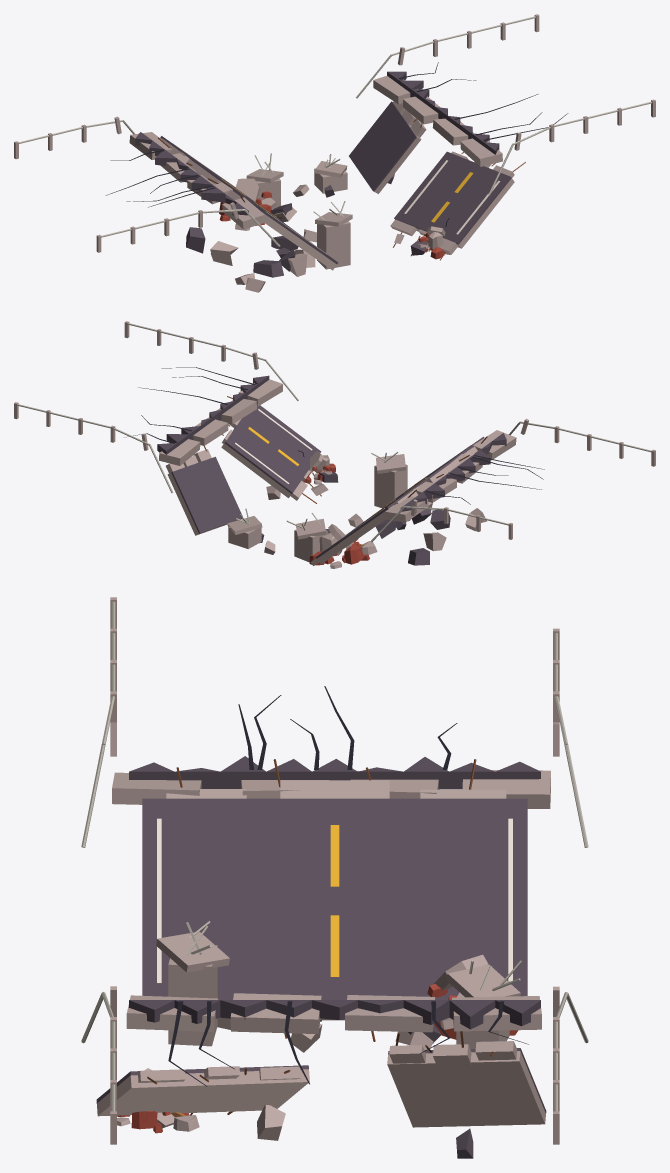
The picture shows the model from 3 angles, top to bottom: view 1: azimuth 30°, elevation 25°; view 2: azimuth 150°, elevation 25°; view 3: azimuth 270°, elevation 25°; orthographic projection. The views are drawn at different scales.
Visible parts, largest first — view 1: static_pal_sidewalk, static_pal_asphalt, static_pal_silver, static_pal_uiDark, static_pal_brick, static_pal_picketWhite; view 2: static_pal_sidewalk, static_pal_asphalt, static_pal_silver, static_pal_uiDark, static_pal_brick, static_pal_picketWhite; view 3: static_pal_asphalt, static_pal_sidewalk, static_pal_silver, static_pal_uiDark, static_pal_picketWhite, static_pal_schoolBusYellow, static_pal_brick.
Part boxes in pixels (x1,y1,x2,y2): static_pal_sidewalk: (14, 14, 655, 292); static_pal_asphalt: (135, 71, 511, 277); static_pal_silver: (19, 16, 652, 246); static_pal_uiDark: (105, 62, 568, 226); static_pal_brick: (219, 191, 445, 259); static_pal_picketWhite: (173, 143, 500, 253); static_pal_sidewalk: (14, 321, 655, 568); static_pal_asphalt: (157, 375, 506, 565); static_pal_silver: (17, 323, 651, 541); static_pal_uiDark: (124, 367, 544, 504); static_pal_brick: (303, 463, 369, 565); static_pal_picketWhite: (235, 409, 472, 548); static_pal_asphalt: (96, 756, 546, 1158); static_pal_sidewalk: (97, 597, 559, 1144); static_pal_silver: (81, 601, 588, 1111); static_pal_uiDark: (168, 686, 528, 1086); static_pal_picketWhite: (157, 818, 512, 983); static_pal_schoolBusYellow: (330, 825, 339, 976); static_pal_brick: (117, 984, 518, 1133).
Bounding box in the file's own units: 36.2 × 7.17 × 15.01.
